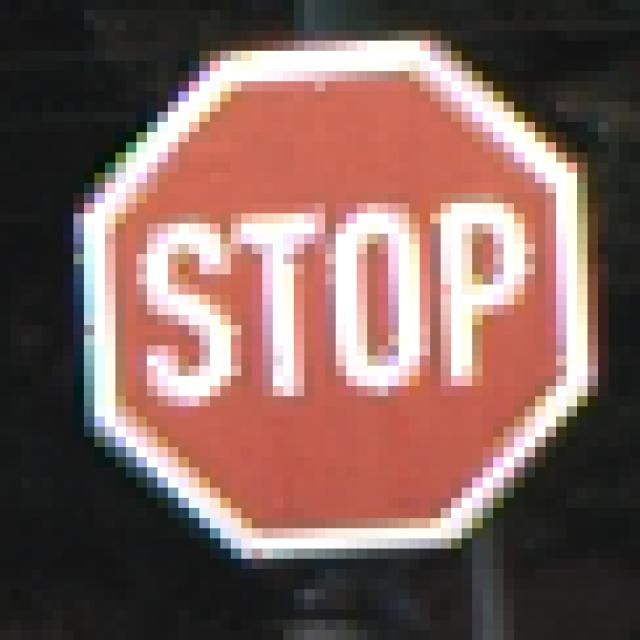STOP: (64, 62, 588, 590)
